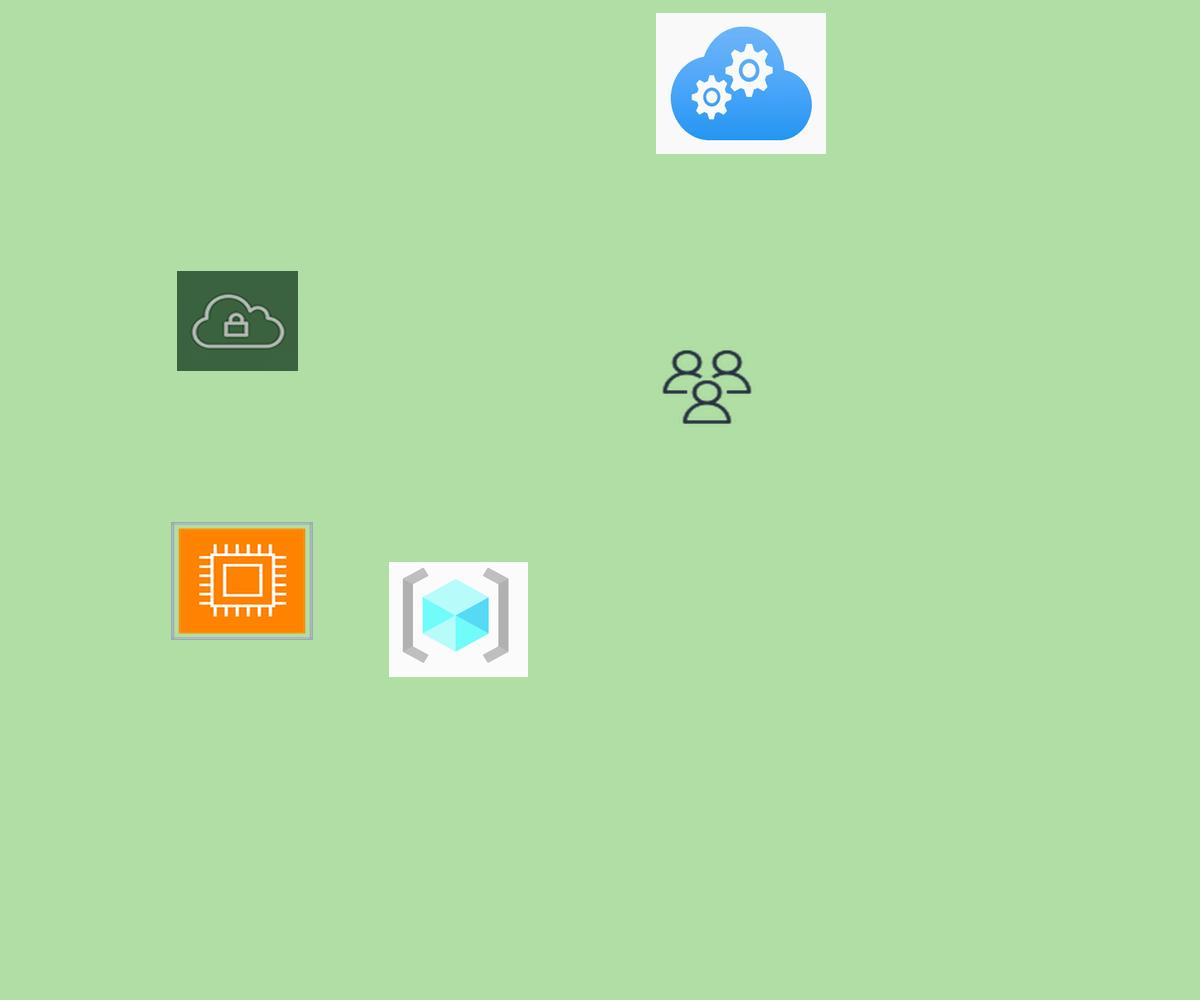AWS-Category_Compute: (171, 522, 313, 640)
AWS-Private_vpc: (177, 271, 298, 371)
AWS-Res_Users: (659, 347, 755, 427)
Azure_cloud_services: (656, 13, 826, 154)
Azure_resource_group: (389, 562, 528, 677)
